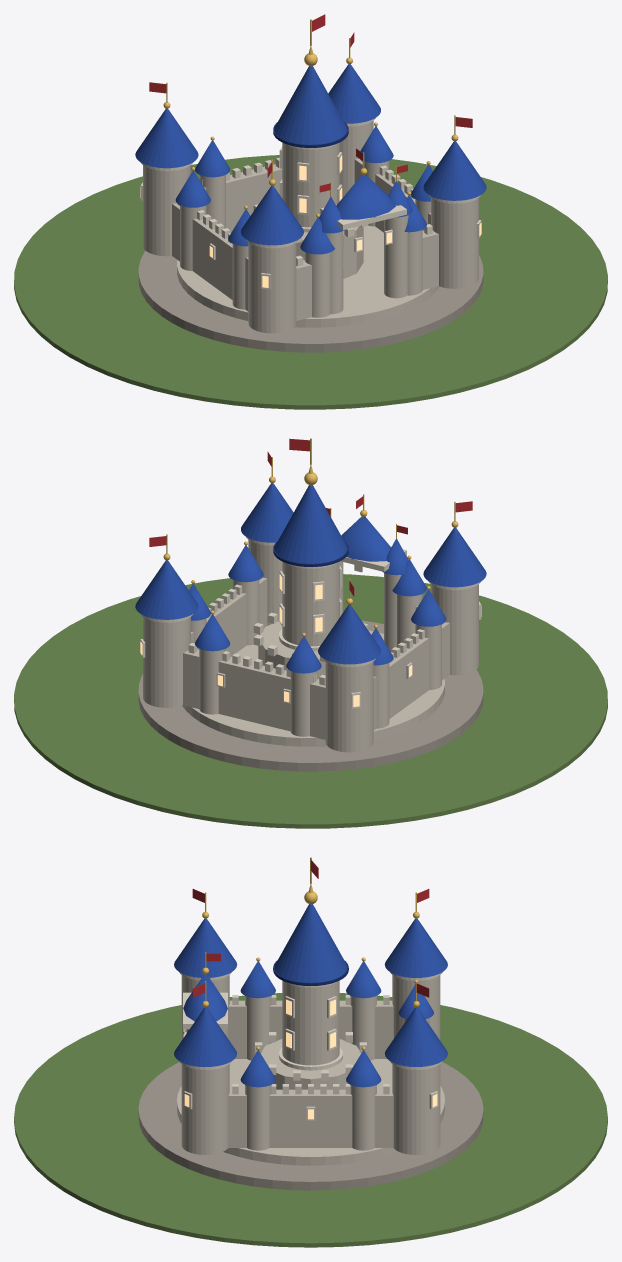
File: castle_fairytale.glb
3 views of the same model, one above another, from view 1: azimuth 30°, elevation 25°; view 2: azimuth 150°, elevation 25°; view 3: azimuth 270°, elevation 25° (orthographic).
Parts seen in each view (by area): view 1: Ground_Meadow, Terrace_Lower, Terrace_Upper, Tower_Corner_WS, Tower_Corner_ES, Roof_Central_Spire, Tower_Central, Wall_West, Tower_Corner_WN, Roof_Corner_WN, Roof_Corner_ES, Roof_Corner_WS (+21 smaller); view 2: Ground_Meadow, Terrace_Lower, Wall_North, Tower_Corner_WN, Terrace_Upper, Tower_Central, Tower_Corner_EN, Roof_Central_Spire, Wall_West, Tower_Corner_WS, Roof_Corner_WS, Roof_Corner_EN (+19 smaller); view 3: Ground_Meadow, Terrace_Lower, Wall_East, Tower_Corner_ES, Tower_Corner_EN, Tower_Central, Terrace_Upper, Roof_Central_Spire, Wall_West, Roof_Corner_WN, Roof_Corner_ES, Roof_Corner_EN (+14 smaller).
Boxes of the visible parts, box(x1,y1,x2,y2) form: Ground_Meadow: box(14, 155, 607, 409); Terrace_Lower: box(138, 251, 483, 352); Terrace_Upper: box(177, 225, 439, 327); Tower_Corner_WS: box(248, 242, 296, 333); Tower_Corner_ES: box(431, 198, 478, 288); Roof_Central_Spire: box(274, 66, 347, 144); Tower_Central: box(282, 142, 339, 227); Wall_West: box(172, 203, 248, 311); Tower_Corner_WN: box(143, 165, 190, 256); Roof_Corner_WN: box(135, 108, 198, 168); Roof_Corner_ES: box(423, 141, 486, 200); Roof_Corner_WS: box(241, 186, 303, 245); Ground_Meadow: box(14, 574, 607, 828); Terrace_Lower: box(138, 620, 483, 771); Wall_North: box(183, 649, 325, 739); Tower_Corner_WN: box(325, 661, 373, 752); Terrace_Upper: box(182, 630, 444, 746); Tower_Central: box(282, 561, 339, 646); Tower_Corner_EN: box(143, 617, 190, 707); Roof_Central_Spire: box(274, 485, 347, 563); Wall_West: box(373, 622, 449, 730); Tower_Corner_WS: box(431, 584, 478, 675); Roof_Corner_WS: box(423, 527, 486, 587); Roof_Corner_EN: box(135, 560, 198, 619); Ground_Meadow: box(14, 993, 607, 1247); Terrace_Lower: box(138, 1062, 483, 1190); Wall_East: box(228, 1089, 393, 1147); Tower_Corner_ES: box(181, 1064, 229, 1154); Tower_Corner_EN: box(392, 1064, 440, 1154); Tower_Central: box(282, 980, 339, 1065); Terrace_Upper: box(177, 1059, 444, 1165); Roof_Central_Spire: box(274, 904, 347, 982); Wall_West: box(228, 1000, 393, 1058); Roof_Corner_WN: box(384, 918, 447, 977); Roof_Corner_ES: box(174, 1007, 236, 1066); Roof_Corner_EN: box(385, 1007, 447, 1066).
Bounding box in the file's own units: 124 × 60.9 × 124.
